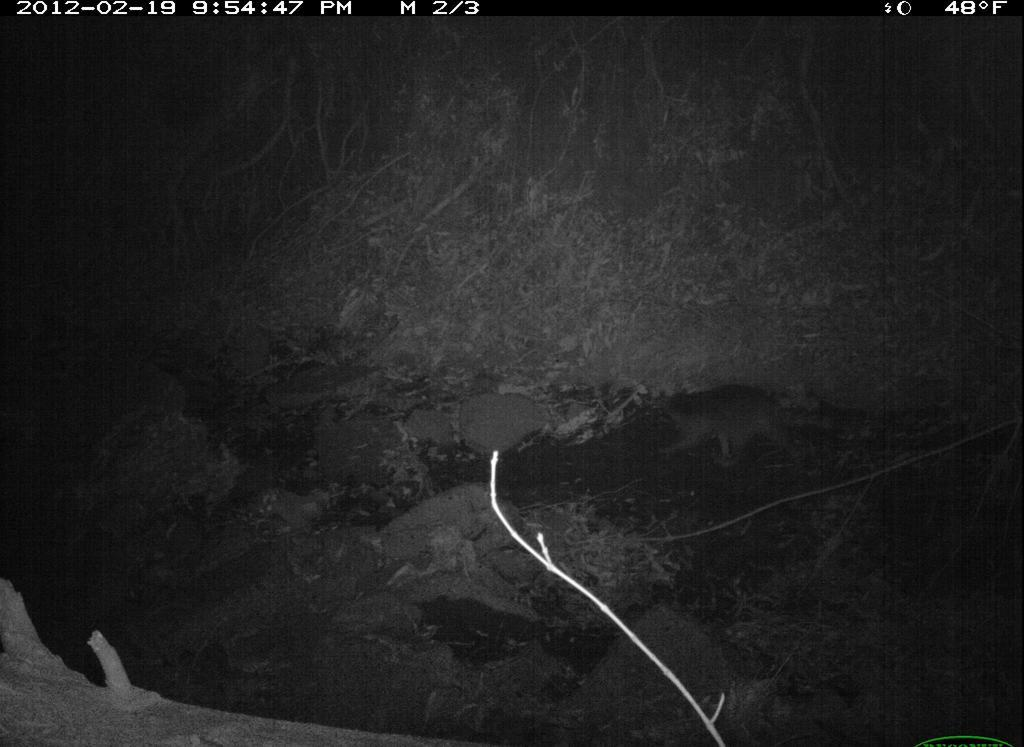raccoon: (648, 385, 811, 479)
